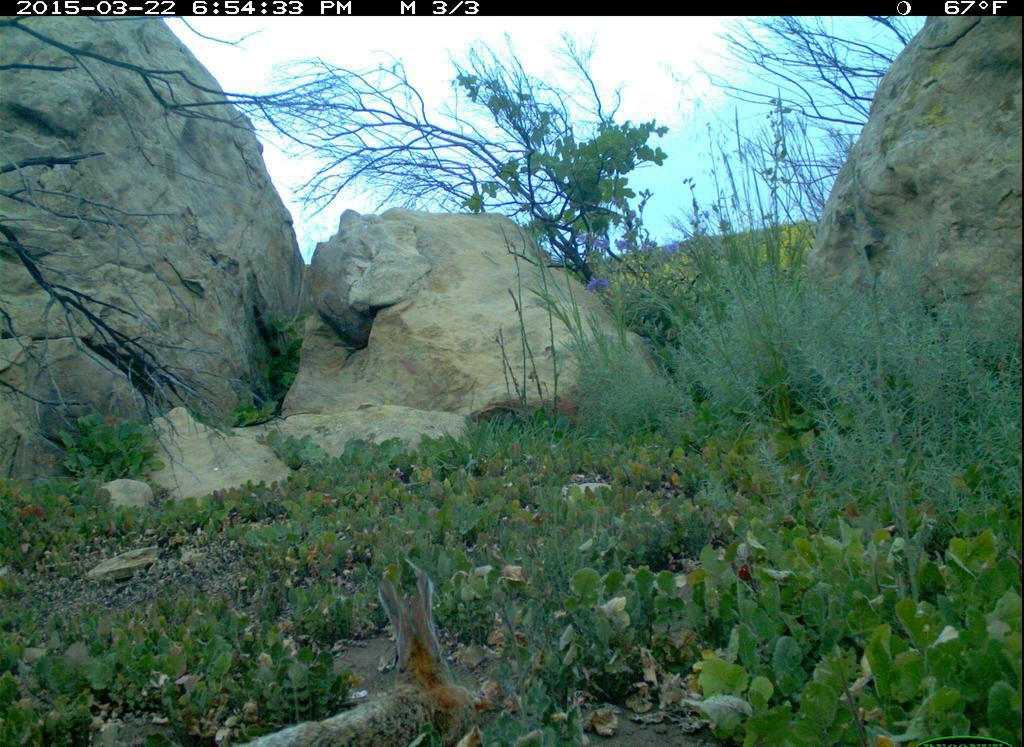rabbit: (219, 569, 488, 730)
